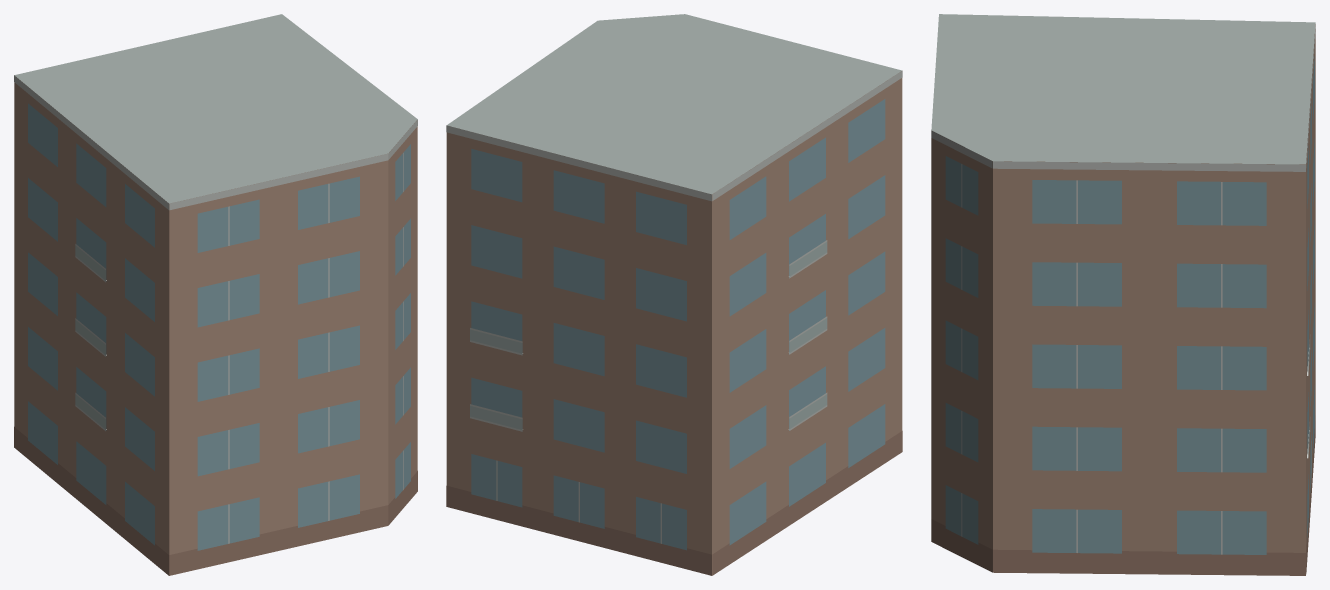
File: survey-upis-32999914.glb
The picture shows the model from 3 angles, left to right: view 1: azimuth 30°, elevation 25°; view 2: azimuth 150°, elevation 25°; view 3: azimuth 270°, elevation 25°; orthographic projection. The views are drawn at different scales.
Parts seen in each view (by area): view 1: survey-upis-32999914.tmp; view 2: survey-upis-32999914.tmp; view 3: survey-upis-32999914.tmp.
Part boxes in pixels (box(x1,y1,x2,y2)): survey-upis-32999914.tmp: box(14, 14, 417, 575); survey-upis-32999914.tmp: box(446, 14, 902, 575); survey-upis-32999914.tmp: box(931, 14, 1315, 575).
Size of the model in its own units: 10.48 by 13.35 by 11.31.
